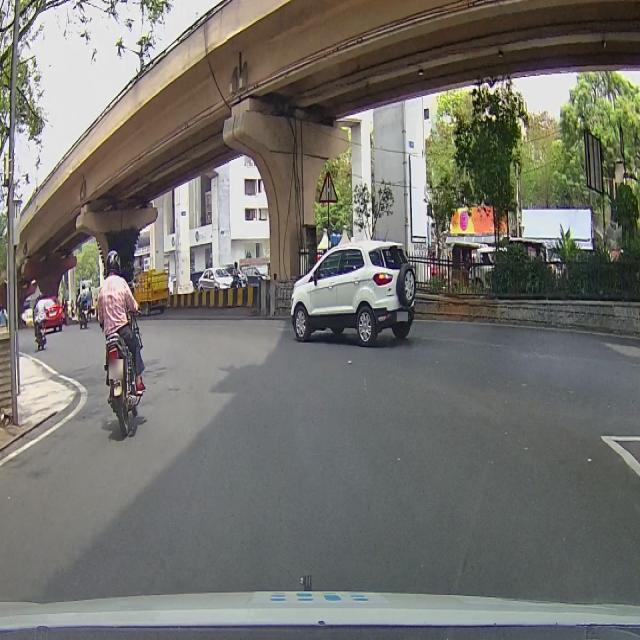car ahead at: (292, 239, 415, 345)
motorcycle ahead at: (98, 335, 148, 433)
